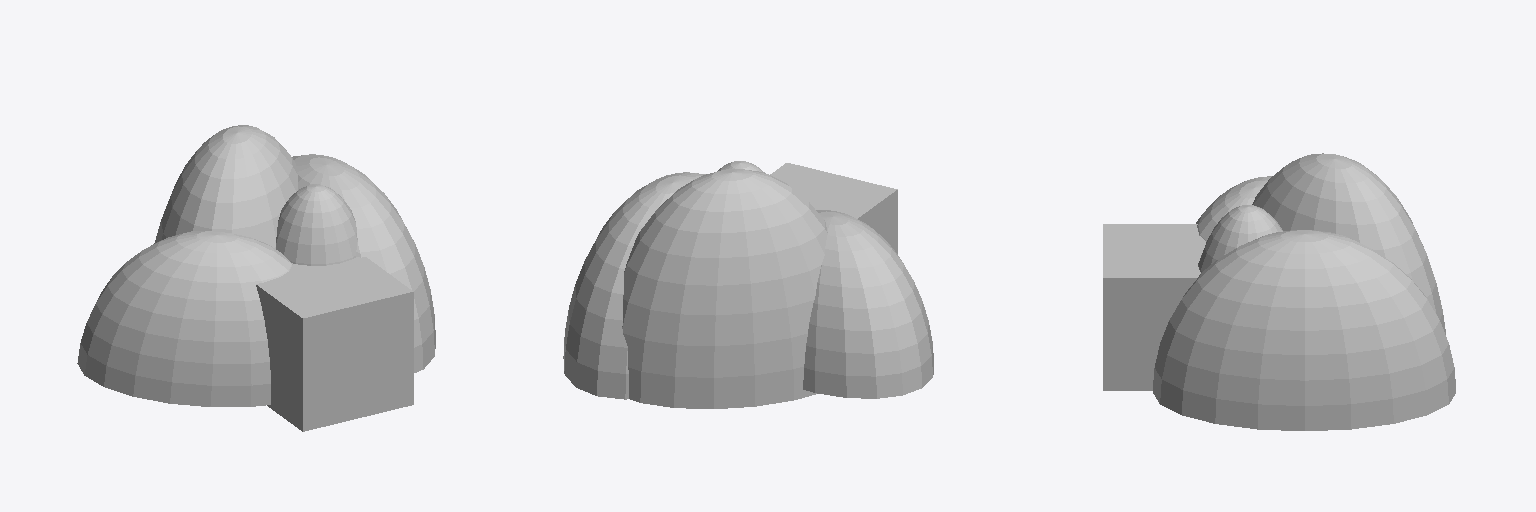
Rendered from mine.obj.
3 renders of one model, left to right at view 1: azimuth 30°, elevation 25°; view 2: azimuth 150°, elevation 25°; view 3: azimuth 270°, elevation 25°, orthographic.
Visible parts, largest first — view 1: pSphere5; view 2: pSphere5; view 3: pSphere5.
Part boxes in pixels (x1,y1,x2,y2): pSphere5: (77,125,435,431); pSphere5: (563,161,933,408); pSphere5: (1103,153,1455,430).
Bounding box in the file's own units: 6.14 × 3.65 × 5.76.